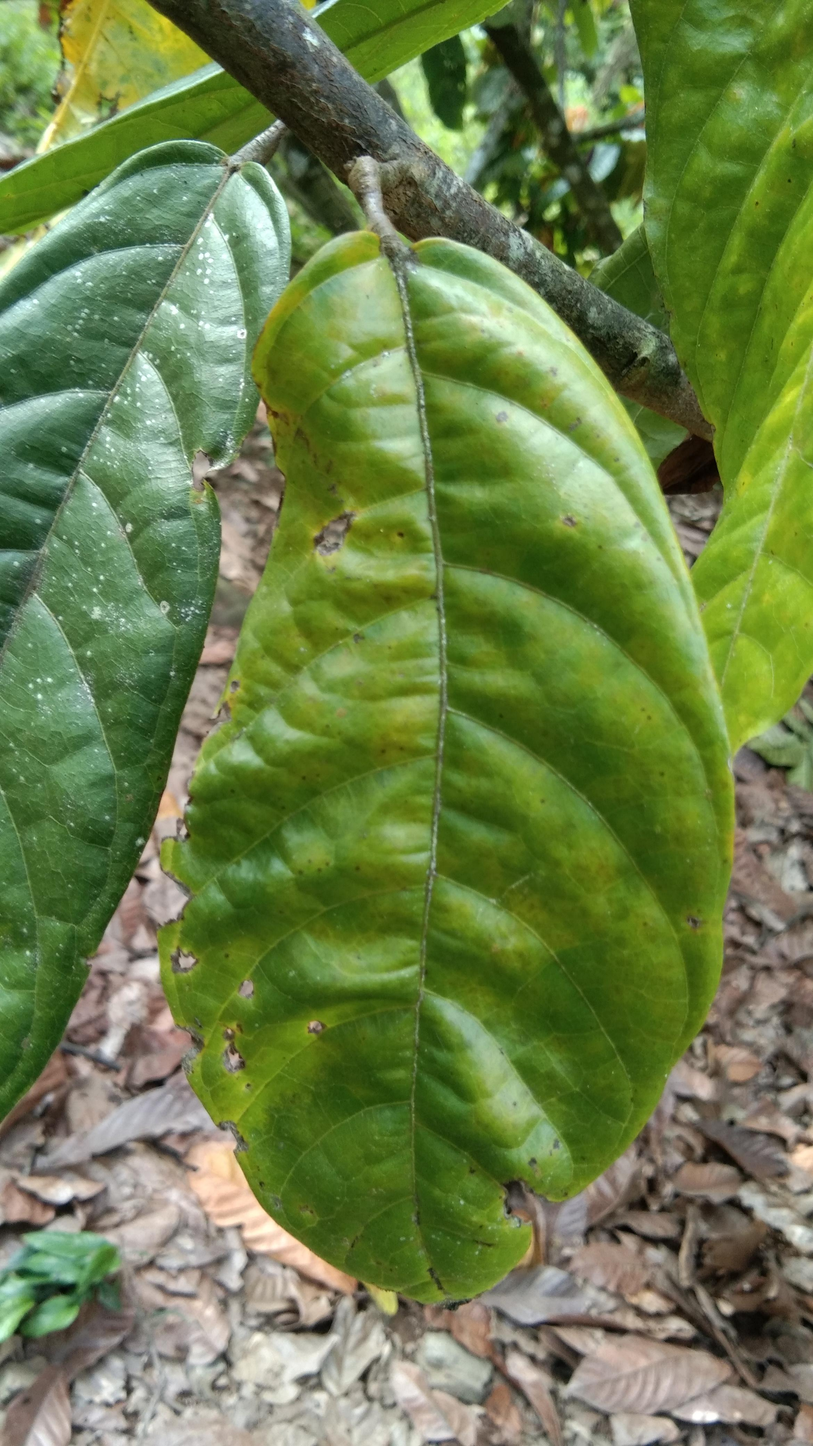deficiencia_potasio: (188, 233, 737, 1314)
